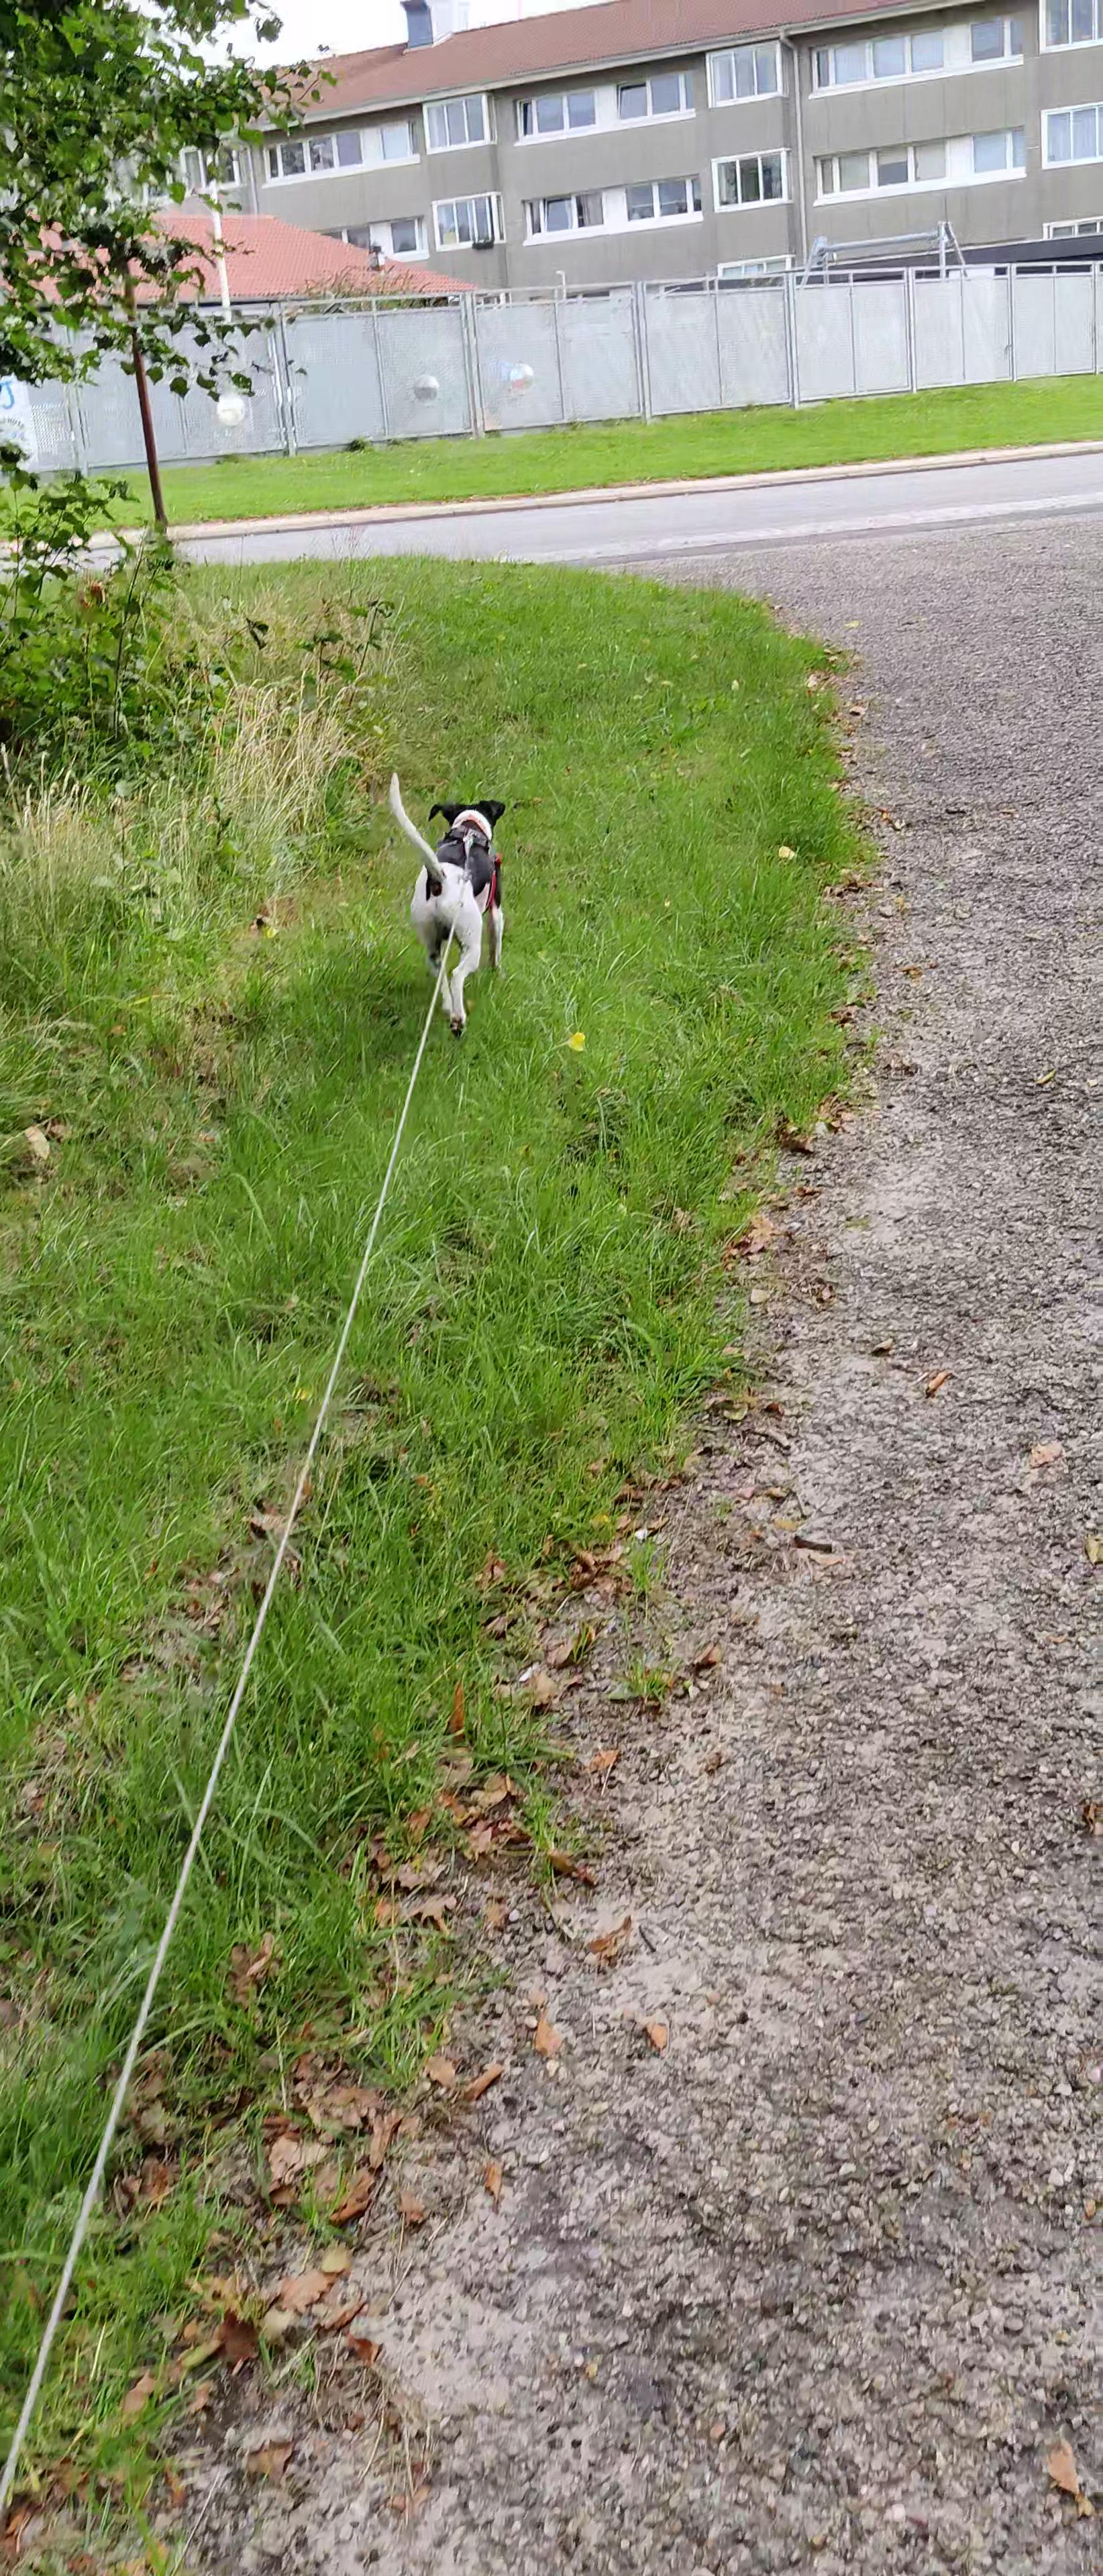Dog: (376, 759, 546, 1051)
